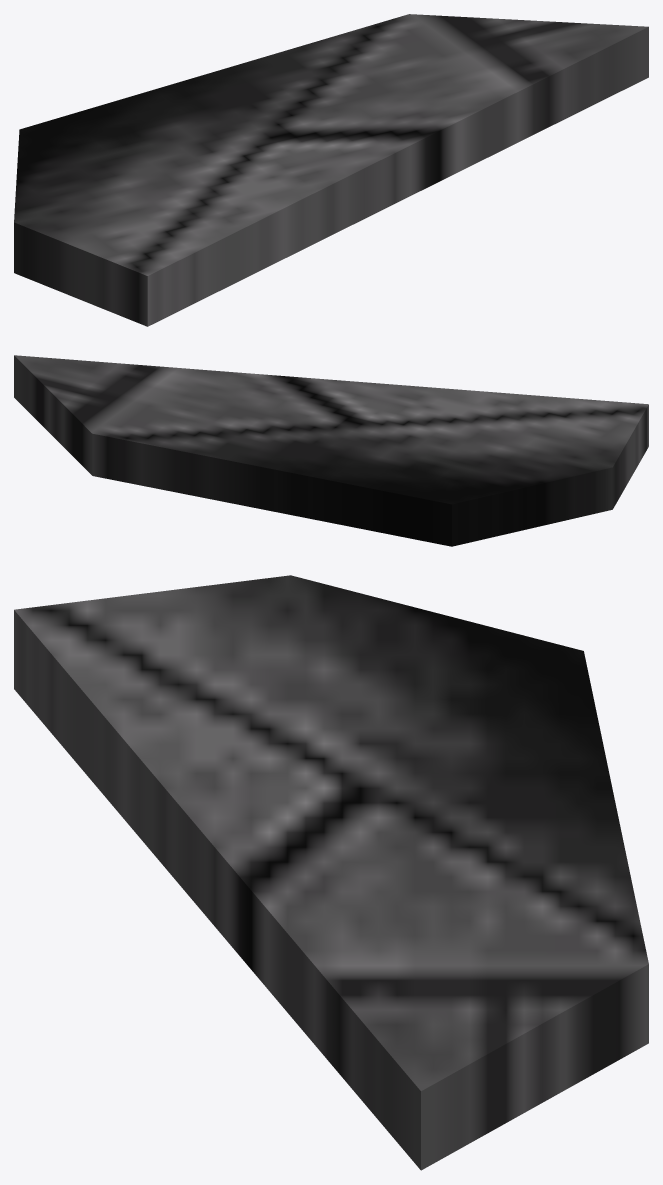
The model's file is USA - Aviation - Stealth Fighter - Damage State 3 - avstealth_d3.glb.
3 views of the same model, one above another, from view 1: azimuth 30°, elevation 25°; view 2: azimuth 150°, elevation 25°; view 3: azimuth 270°, elevation 25° (orthographic). The views are drawn at different scales.
Visible parts, largest first — view 1: AVSTEALTH_D3; view 2: AVSTEALTH_D3; view 3: AVSTEALTH_D3.
Part boxes in pixels (x1,y1,x2,y2): AVSTEALTH_D3: [14, 14, 648, 326]; AVSTEALTH_D3: [14, 355, 648, 546]; AVSTEALTH_D3: [14, 575, 648, 1170].
Bounding box in the file's own units: 4.61 × 0.33 × 2.4.
Materials: 1 (1 with a texture image).
